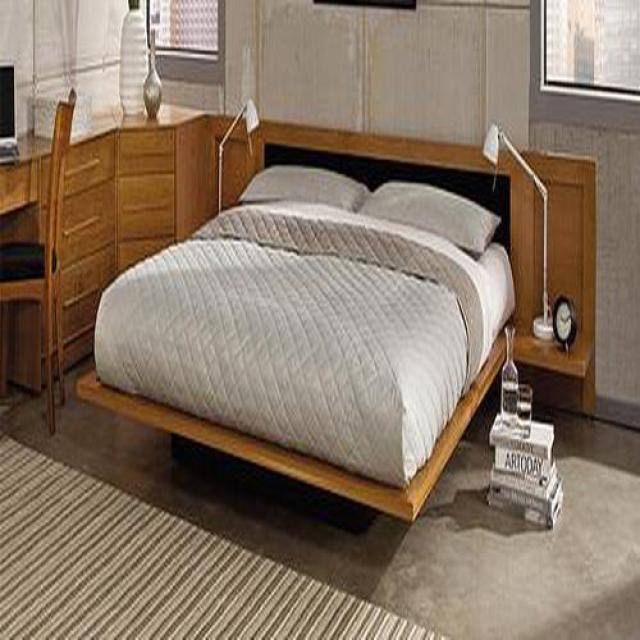bed: (77, 166, 516, 524)
